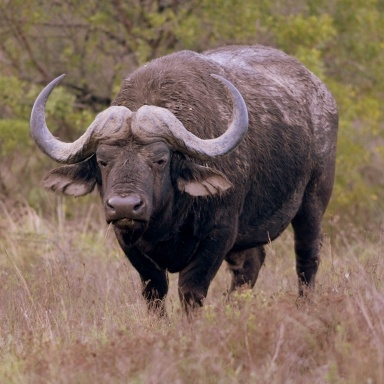buffalo: (30, 49, 339, 318)
